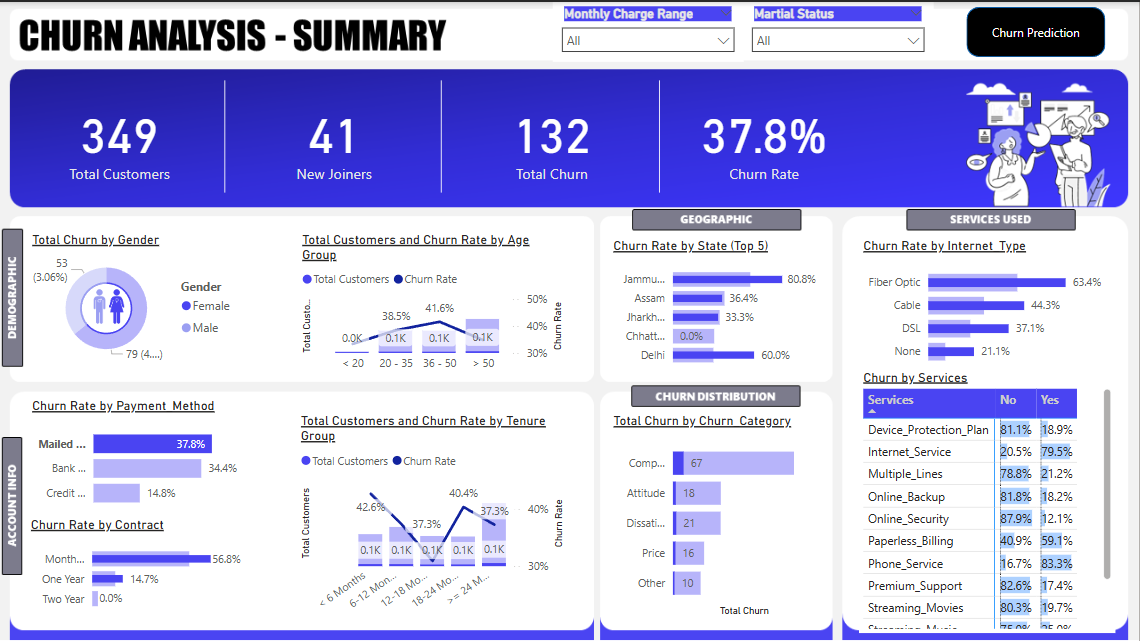

What the dashboard file says about the page in this screenshot:
{"tool":"powerbi","page":{"name":"Summary","canvas":[1280,720],"ordinal":0},"visuals":[{"type":"image","box":[94.7,311.5,59,59],"z":0},{"type":"card","fields":{"Values":["tbl_measures.Total Customers"]},"box":[17.8,76.8,234.6,153.7],"z":1000},{"type":"card","fields":{"Values":["tbl_measures.Total Churn"]},"box":[502.2,76.8,237.4,153.7],"z":2000},{"type":"card","fields":{"Values":["tbl_measures.New Joiners"]},"box":[263.5,76.8,225,153.7],"z":3000},{"type":"card","fields":{"Values":["tbl_measures.Churn Rate"]},"box":[752,76.8,214.1,153.7],"z":4000},{"type":"donutChart","fields":{"Category":["prod_Churn.Gender"],"Y":["tbl_measures.Total Churn"]},"box":[32.9,258,242.9,155.1],"z":5000},{"type":"lineStackedColumnComboChart","fields":{"Category":["mapping_AgeGrp.Age Group "],"Y":["tbl_measures.Total Customers"],"Y2":["tbl_measures.Churn Rate"]},"box":[336.2,258,303.3,166],"z":6000},{"type":"clusteredBarChart","fields":{"Category":["prod_Churn.Payment_Method"],"Y":["tbl_measures.Churn Rate"]},"box":[32.9,444.6,245.6,134.5],"z":7000},{"type":"clusteredBarChart","fields":{"Category":["prod_Churn.Contract"],"Y":["tbl_measures.Churn Rate"]},"box":[30.2,579.1,245.6,115.3],"z":8000},{"type":"lineStackedColumnComboChart","fields":{"Category":["mapping_TenureGrp.Tenure Group "],"Y":["tbl_measures.Total Customers"],"Y2":["tbl_measures.Churn Rate"]},"box":[333.4,462.4,306,231.9],"z":9000},{"type":"clusteredBarChart","title":"Churn Rate by State (Top 5) ","fields":{"Category":["prod_Churn.State"],"Y":["tbl_measures.Churn Rate"]},"box":[684.7,264.8,237.4,153.7],"z":10000},{"type":"clusteredBarChart","fields":{"Category":["prod_Churn.Churn_Category"],"Y":["tbl_measures.Total Churn"]},"box":[684.7,462.4,237.4,233.3],"z":11000},{"type":"clusteredBarChart","fields":{"Category":["prod_Churn.Internet_Type"],"Y":["tbl_measures.Churn Rate"]},"box":[966,264.8,277.2,153.7],"z":12000},{"type":"pivotTable","title":"Churn by Services","fields":{"Rows":["prod_Services.Services"],"Columns":["prod_Services.Status"],"Values":["Sum(prod_Services.Churn_Status)"]},"box":[966,413,288.2,296.4],"z":13000},{"type":"slicer","fields":{"Values":["prod_Churn.Monthly Charge Range tom"]},"box":[621.6,0,214.1,67.2],"z":14000},{"type":"slicer","fields":{"Values":["prod_Churn.Married"]},"box":[835.7,0,214.1,57.6],"z":15000},{"type":"shape","box":[1086.6,5.6,155.8,56.2],"z":15001}]}

Visuals, with their boxes in screenshot pixels (x1, y1, x2, y2), scaled from the page's 1280x720 canvas onto the 1140x641 screenshot:
image: l=84, t=277, r=137, b=330
card - tbl_measures.Total Customers: l=16, t=68, r=225, b=205
card - tbl_measures.Total Churn: l=447, t=68, r=659, b=205
card - tbl_measures.New Joiners: l=235, t=68, r=435, b=205
card - tbl_measures.Churn Rate: l=670, t=68, r=860, b=205
donutChart - prod_Churn.Gender x tbl_measures.Total Churn: l=29, t=230, r=246, b=368
lineStackedColumnComboChart - mapping_AgeGrp.Age Group  x tbl_measures.Total Customers: l=299, t=230, r=570, b=377
clusteredBarChart - prod_Churn.Payment_Method x tbl_measures.Churn Rate: l=29, t=396, r=248, b=516
clusteredBarChart - prod_Churn.Contract x tbl_measures.Churn Rate: l=27, t=516, r=246, b=618
lineStackedColumnComboChart - mapping_TenureGrp.Tenure Group  x tbl_measures.Total Customers: l=297, t=412, r=569, b=618
"Churn Rate by State (Top 5) " clusteredBarChart: l=610, t=236, r=821, b=373
clusteredBarChart - prod_Churn.Churn_Category x tbl_measures.Total Churn: l=610, t=412, r=821, b=619
clusteredBarChart - prod_Churn.Internet_Type x tbl_measures.Churn Rate: l=860, t=236, r=1107, b=373
"Churn by Services" pivotTable: l=860, t=368, r=1117, b=632
slicer - prod_Churn.Monthly Charge Range tom: l=554, t=0, r=744, b=60
slicer - prod_Churn.Married: l=744, t=0, r=935, b=51
shape: l=968, t=5, r=1107, b=55
